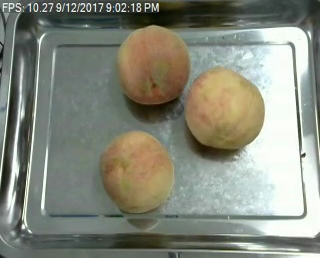Peach: (184, 66, 264, 149), (99, 129, 173, 214), (117, 24, 190, 104)
